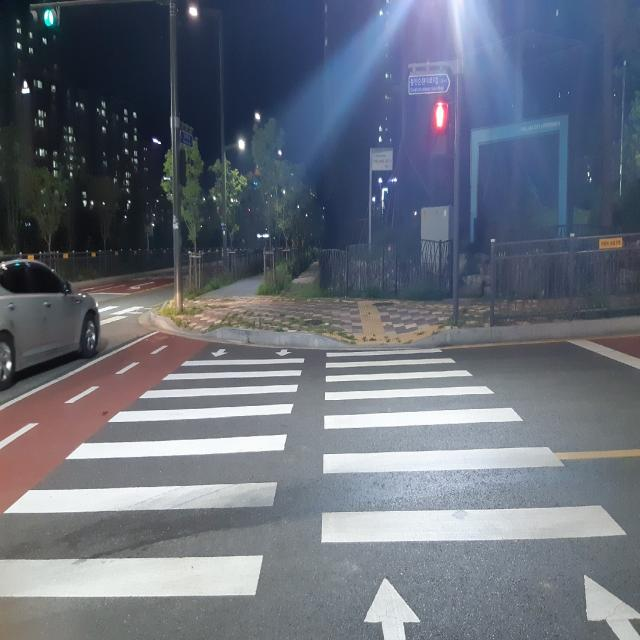빨간불: (430, 103, 451, 166)
횡단보도: (0, 349, 640, 639)
